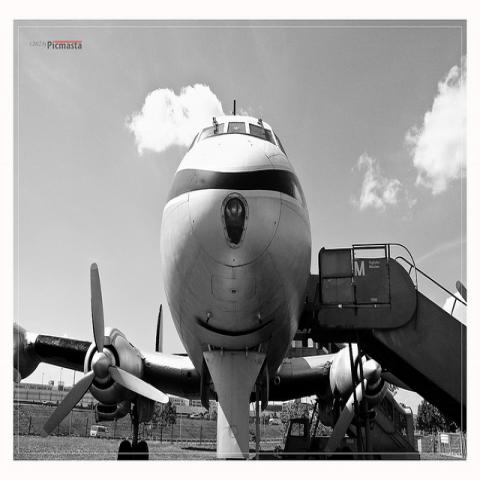bus: (90, 425, 110, 440)
truck: (282, 418, 330, 451)
